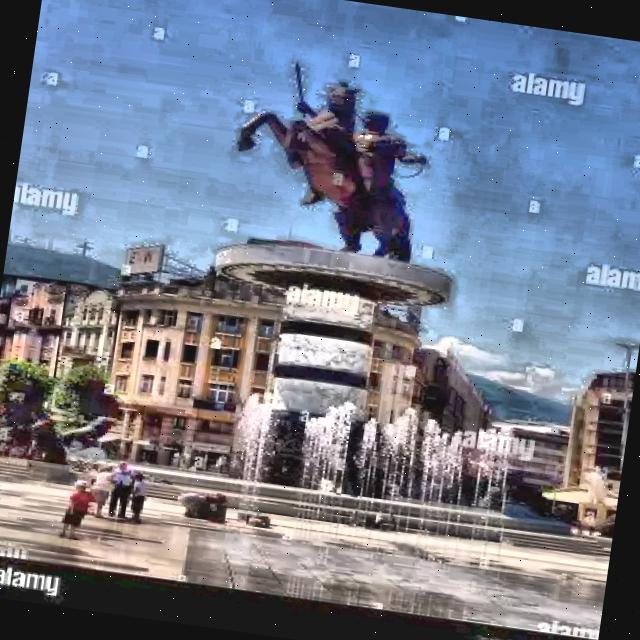alexander the great monument: (158, 48, 486, 529)
